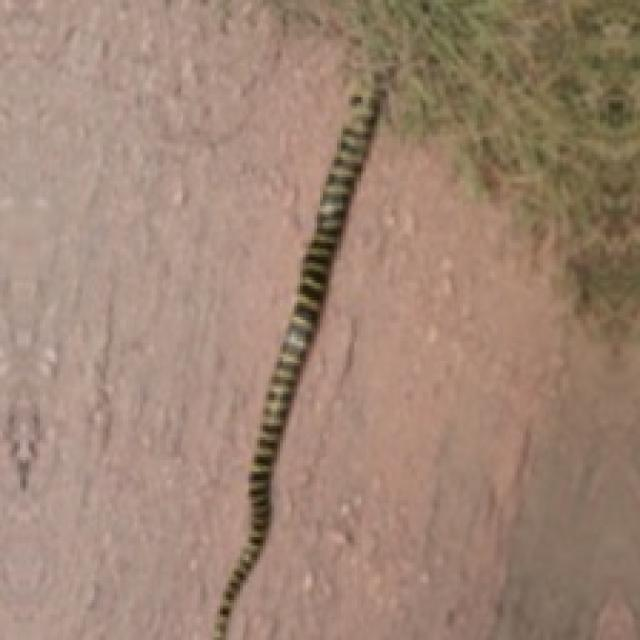mangrove cat snake: (211, 74, 386, 637)
